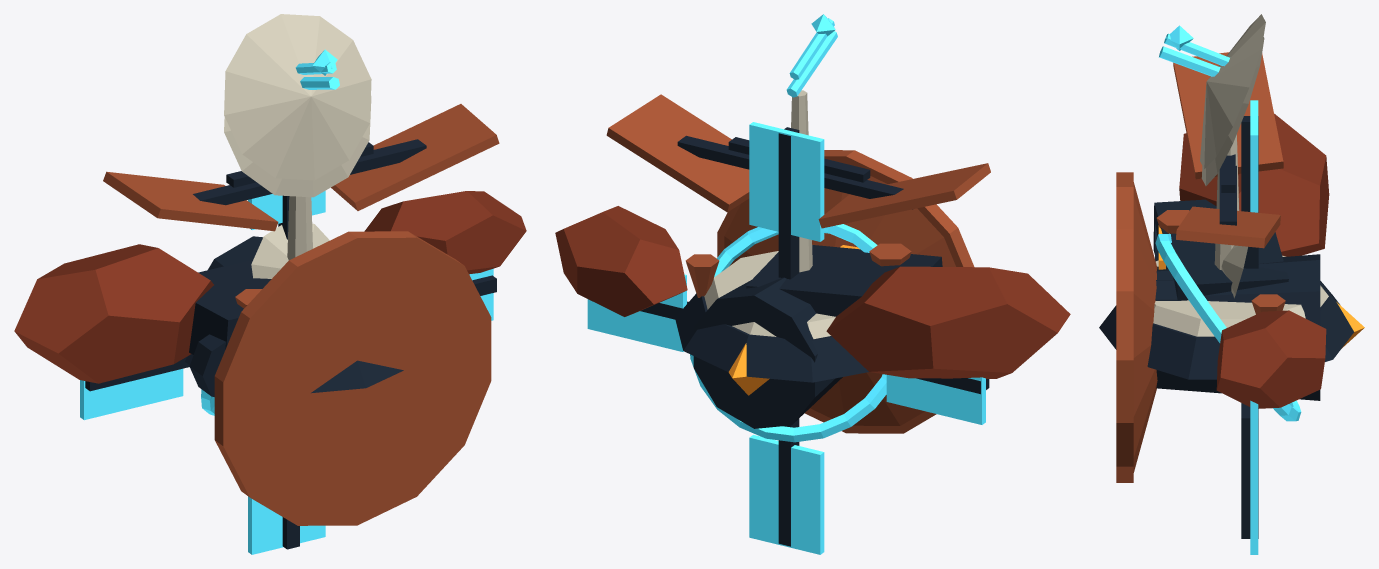
Rendered from inner-route-landmarks-v1-nV1Na9Hn.glb.
The picture shows the model from 3 angles, left to right: view 1: azimuth 30°, elevation 25°; view 2: azimuth 150°, elevation 25°; view 3: azimuth 270°, elevation 25°; orthographic projection. The views are drawn at different scales.
Parts seen in each view (by area): view 1: InnerRoute_sun_Static_heat, InnerRoute_mars_Static_mars, InnerRoute_mars_Spin_ivory, InnerRoute_mercury_Static_heat, InnerRoute_sun_Static_signal, InnerRoute_mars_Static_structure, InnerRoute_mercury_Static_structure, InnerRoute_sun_Static_structure, InnerRoute_mercury_Spin_ivory, InnerRoute_sun_Spin_ivory, InnerRoute_mars_Static_ivory, InnerRoute_mercury_Spin_signal; view 2: InnerRoute_mars_Static_mars, InnerRoute_sun_Static_signal, InnerRoute_sun_Static_structure, InnerRoute_mercury_Static_heat, InnerRoute_sun_Static_heat, InnerRoute_mercury_Static_structure, InnerRoute_mars_Static_structure, InnerRoute_sun_Spin_signal, InnerRoute_mercury_Static_ivory, InnerRoute_mars_Static_ivory, InnerRoute_mercury_Spin_signal, InnerRoute_sun_Static_hazard (+1 smaller); view 3: InnerRoute_mars_Static_mars, InnerRoute_sun_Static_heat, InnerRoute_mercury_Static_heat, InnerRoute_sun_Static_structure, InnerRoute_mercury_Static_structure, InnerRoute_mars_Static_structure, InnerRoute_mars_Spin_ivory, InnerRoute_mercury_Static_ivory, InnerRoute_sun_Static_signal, InnerRoute_sun_Spin_signal, InnerRoute_mercury_Spin_signal, InnerRoute_mercury_Spin_ivory (+3 smaller).
Boxes of the visible parts, x1,y1,x2,y2 form: InnerRoute_sun_Static_heat: (214,231,491,525); InnerRoute_mars_Static_mars: (14,191,526,383); InnerRoute_mars_Spin_ivory: (224,14,371,180); InnerRoute_mercury_Static_heat: (103,104,499,308); InnerRoute_sun_Static_signal: (80,191,493,554); InnerRoute_mars_Static_structure: (189,142,373,396); InnerRoute_mercury_Static_structure: (185,139,426,393); InnerRoute_sun_Static_structure: (85,195,496,549); InnerRoute_mercury_Spin_ivory: (224,96,371,197); InnerRoute_sun_Spin_ivory: (251,223,329,278); InnerRoute_mars_Static_ivory: (287,196,312,260); InnerRoute_mercury_Spin_signal: (300,49,339,89); InnerRoute_mars_Static_mars: (555,206,1070,378); InnerRoute_sun_Static_signal: (587,122,985,554); InnerRoute_sun_Static_structure: (640,127,989,546); InnerRoute_mercury_Static_heat: (606,94,990,297); InnerRoute_sun_Static_heat: (717,150,974,433); InnerRoute_mercury_Static_structure: (675,135,912,382); InnerRoute_mars_Static_structure: (728,137,942,316); InnerRoute_sun_Spin_signal: (690,224,886,442); InnerRoute_mercury_Static_ivory: (704,251,835,338); InnerRoute_mars_Static_ivory: (791,90,812,272); InnerRoute_mercury_Spin_signal: (786,14,837,97); InnerRoute_sun_Static_hazard: (728,343,769,395); InnerRoute_mars_Static_mars: (1179,113,1329,408); InnerRoute_sun_Static_heat: (1116,172,1157,482); InnerRoute_mercury_Static_heat: (1156,52,1285,314); InnerRoute_sun_Static_structure: (1156,116,1320,538); InnerRoute_mercury_Static_structure: (1099,165,1353,379); InnerRoute_mars_Static_structure: (1153,154,1288,300); InnerRoute_mars_Spin_ivory: (1200,14,1265,168); InnerRoute_mercury_Static_ivory: (1153,255,1328,336); InnerRoute_sun_Static_signal: (1250,100,1258,554); InnerRoute_sun_Spin_signal: (1155,233,1301,421); InnerRoute_mercury_Spin_signal: (1159,25,1220,76); InnerRoute_mercury_Spin_ivory: (1201,37,1264,185).
Bounding box in the file's own units: 4.04 × 3.95 × 1.85.
